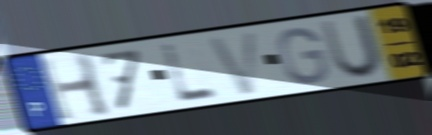7: (98, 46, 143, 112)
G: (275, 26, 331, 87)
H: (37, 51, 115, 124)
L: (160, 41, 222, 105)
U: (318, 13, 386, 82)
V: (204, 27, 261, 98)
